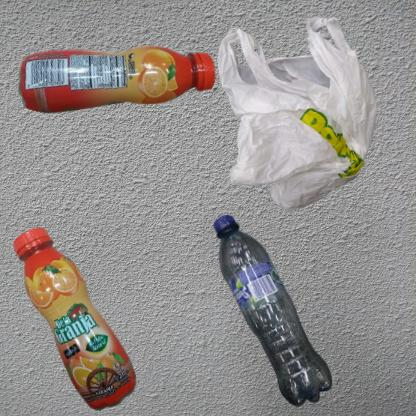bolsa: (213, 10, 391, 223)
botella: (10, 10, 249, 169), (10, 213, 160, 416), (213, 213, 332, 409)
